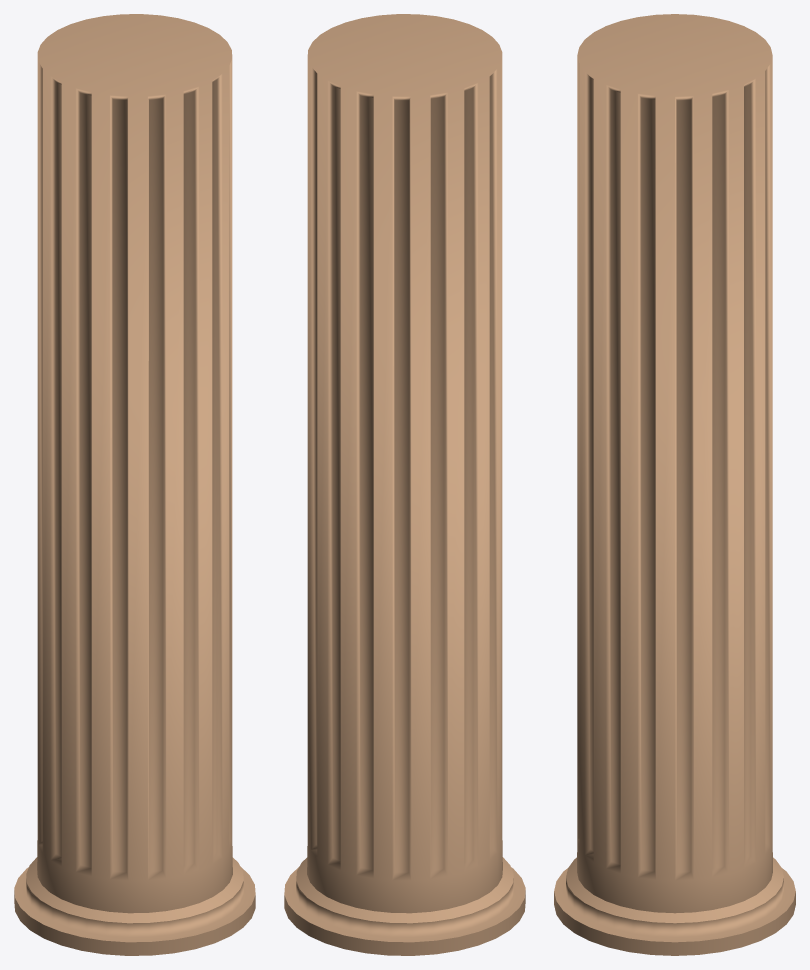
File: Pillar.fbx
The picture shows the model from 3 angles, left to right: view 1: azimuth 30°, elevation 25°; view 2: azimuth 150°, elevation 25°; view 3: azimuth 270°, elevation 25°; orthographic projection.
Visible parts, largest first — view 1: Cylinder.018; view 2: Cylinder.018; view 3: Cylinder.018.
Boxes of the visible parts, box(x1,y1,x2,y2) form: Cylinder.018: box(14, 14, 255, 955); Cylinder.018: box(284, 14, 525, 955); Cylinder.018: box(554, 14, 795, 955).
Size of the model in its own units: 800 by 3101 by 800.
